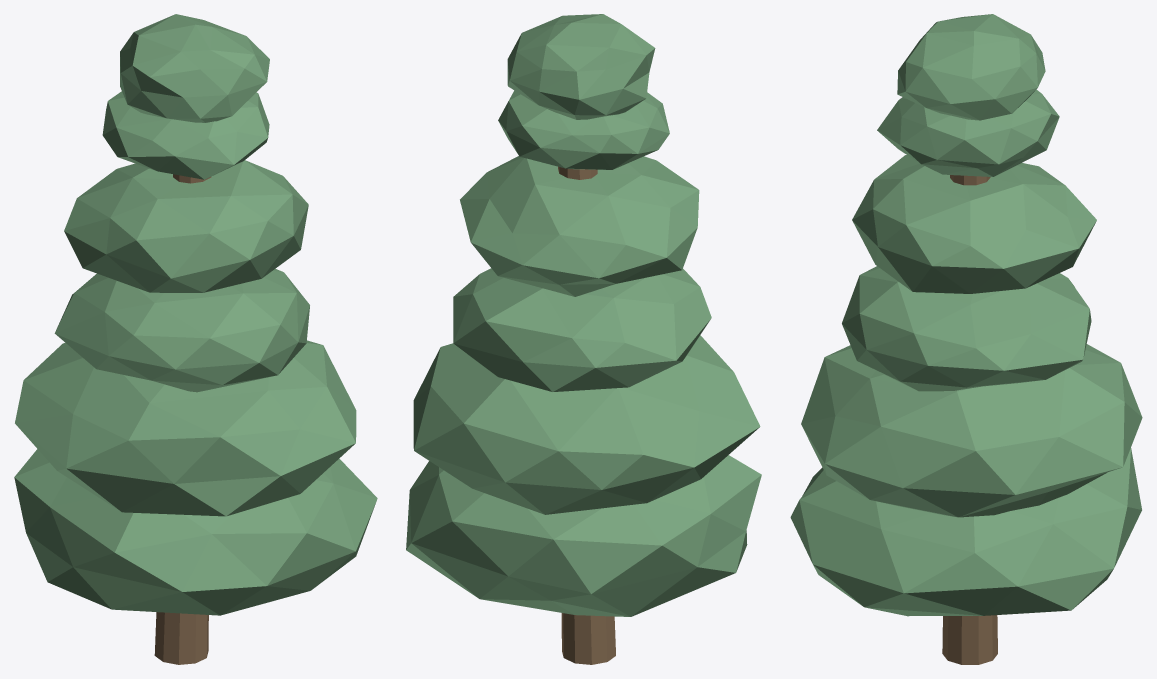
Rendered from detailed_pine_b.glb.
3 views of the same model, side by side, from view 1: azimuth 30°, elevation 25°; view 2: azimuth 150°, elevation 25°; view 3: azimuth 270°, elevation 25° (orthographic).
Visible parts, largest first — view 1: DetailedPine_11; view 2: DetailedPine_11; view 3: DetailedPine_11.
Part boxes in pixels (x1,y1,x2,y2): DetailedPine_11: (14,14,377,664); DetailedPine_11: (406,14,761,664); DetailedPine_11: (790,14,1142,664).
Size of the model in its own units: 2.31 by 4.5 by 2.28.
